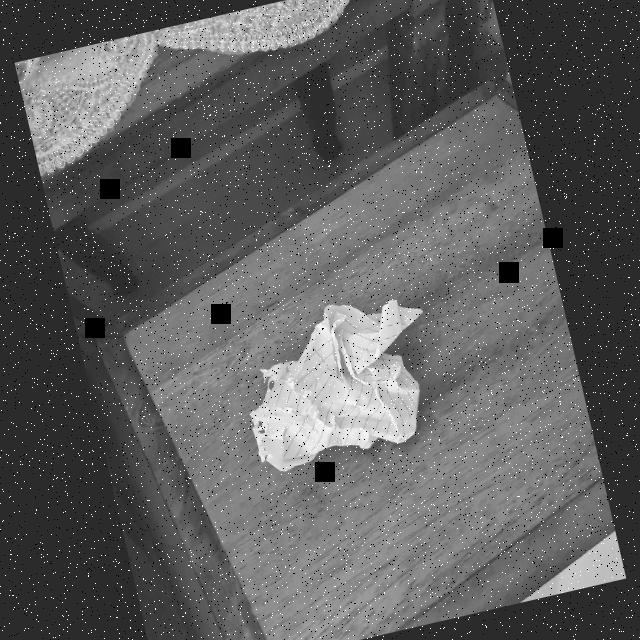scrap_paper: (225, 286, 444, 479)
